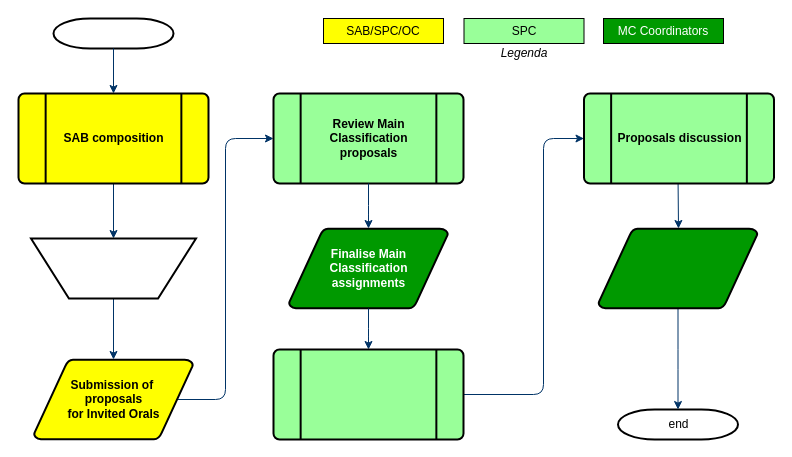
This 792x457 diagram has some shape labels left out. The shapes that lost their labels are listed below. From the top down, each one's box as (x1, y1, x2, y2) in pixels, then its label:
(52, 17, 174, 49): start
(30, 237, 196, 299): Invitations, track responses
(597, 227, 758, 309): Final acceptance
(272, 348, 464, 440): Prioritise proposals
